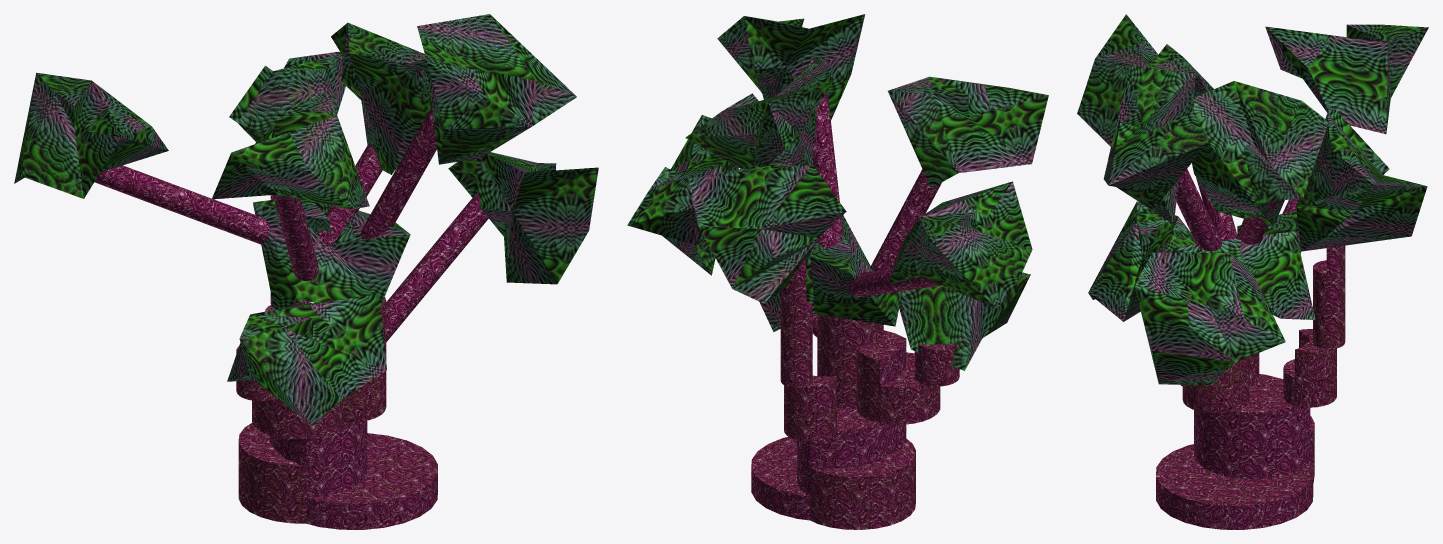
The model's file is ArbreCubik_Rose.dae.
3 views of the same model, side by side, from view 1: azimuth 30°, elevation 25°; view 2: azimuth 150°, elevation 25°; view 3: azimuth 270°, elevation 25° (orthographic). The views are drawn at different scales.
Visible parts, largest first — view 1: SketchUp (×19); view 2: SketchUp (×16); view 3: SketchUp (×15).
Boxes of the visible parts, <box> form: SketchUp (×19): <box>14,14,598,529</box>; SketchUp (×16): <box>627,14,1048,529</box>; SketchUp (×15): <box>1077,14,1428,529</box>.
Bounding box in the file's own units: 149 × 103 × 143.
3 materials, 3 textured.
